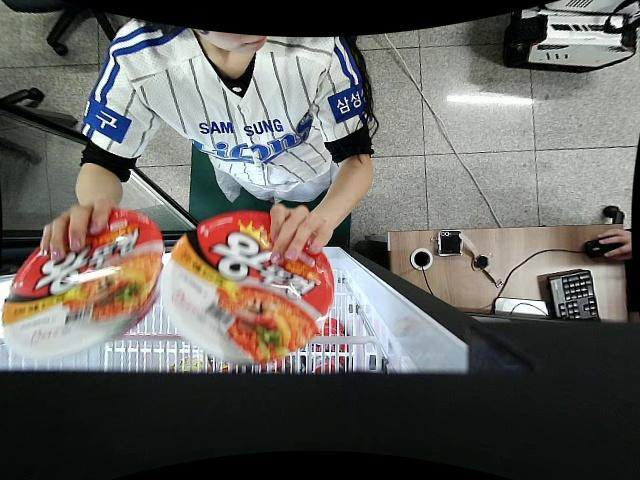00_hand: (39, 199, 119, 261), (266, 202, 336, 267)
10_wangTtukkeong: (167, 211, 335, 367), (1, 207, 165, 360)
